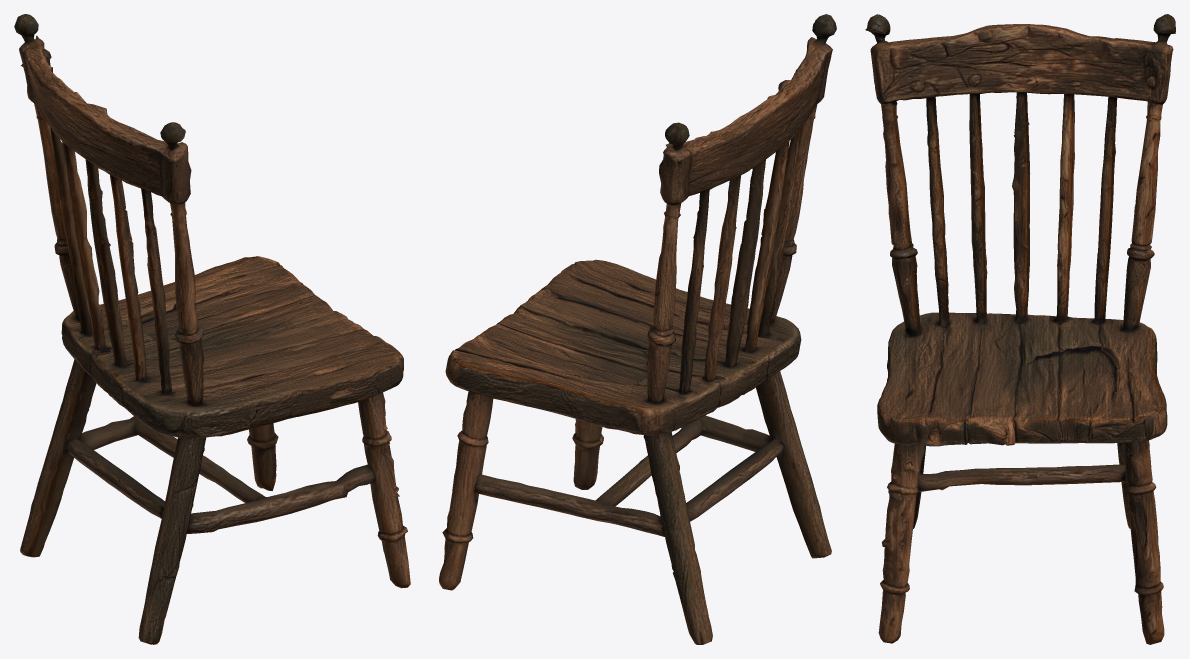
The picture shows the model from 3 angles, left to right: view 1: azimuth 30°, elevation 25°; view 2: azimuth 150°, elevation 25°; view 3: azimuth 270°, elevation 25°; orthographic projection. The views are drawn at different scales.
Parts seen in each view (by area): view 1: tripo_node_50c14f26-3565-405c-9de7-9d29aa2250e9; view 2: tripo_node_50c14f26-3565-405c-9de7-9d29aa2250e9; view 3: tripo_node_50c14f26-3565-405c-9de7-9d29aa2250e9.
Boxes of the visible parts, left/top/right/bottom form: tripo_node_50c14f26-3565-405c-9de7-9d29aa2250e9: left=14, top=14, right=410, bottom=644; tripo_node_50c14f26-3565-405c-9de7-9d29aa2250e9: left=439, top=14, right=836, bottom=644; tripo_node_50c14f26-3565-405c-9de7-9d29aa2250e9: left=865, top=14, right=1175, bottom=644.
Size of the model in its own units: 0.5518 by 1 by 0.545.
1 material, 1 textured.
